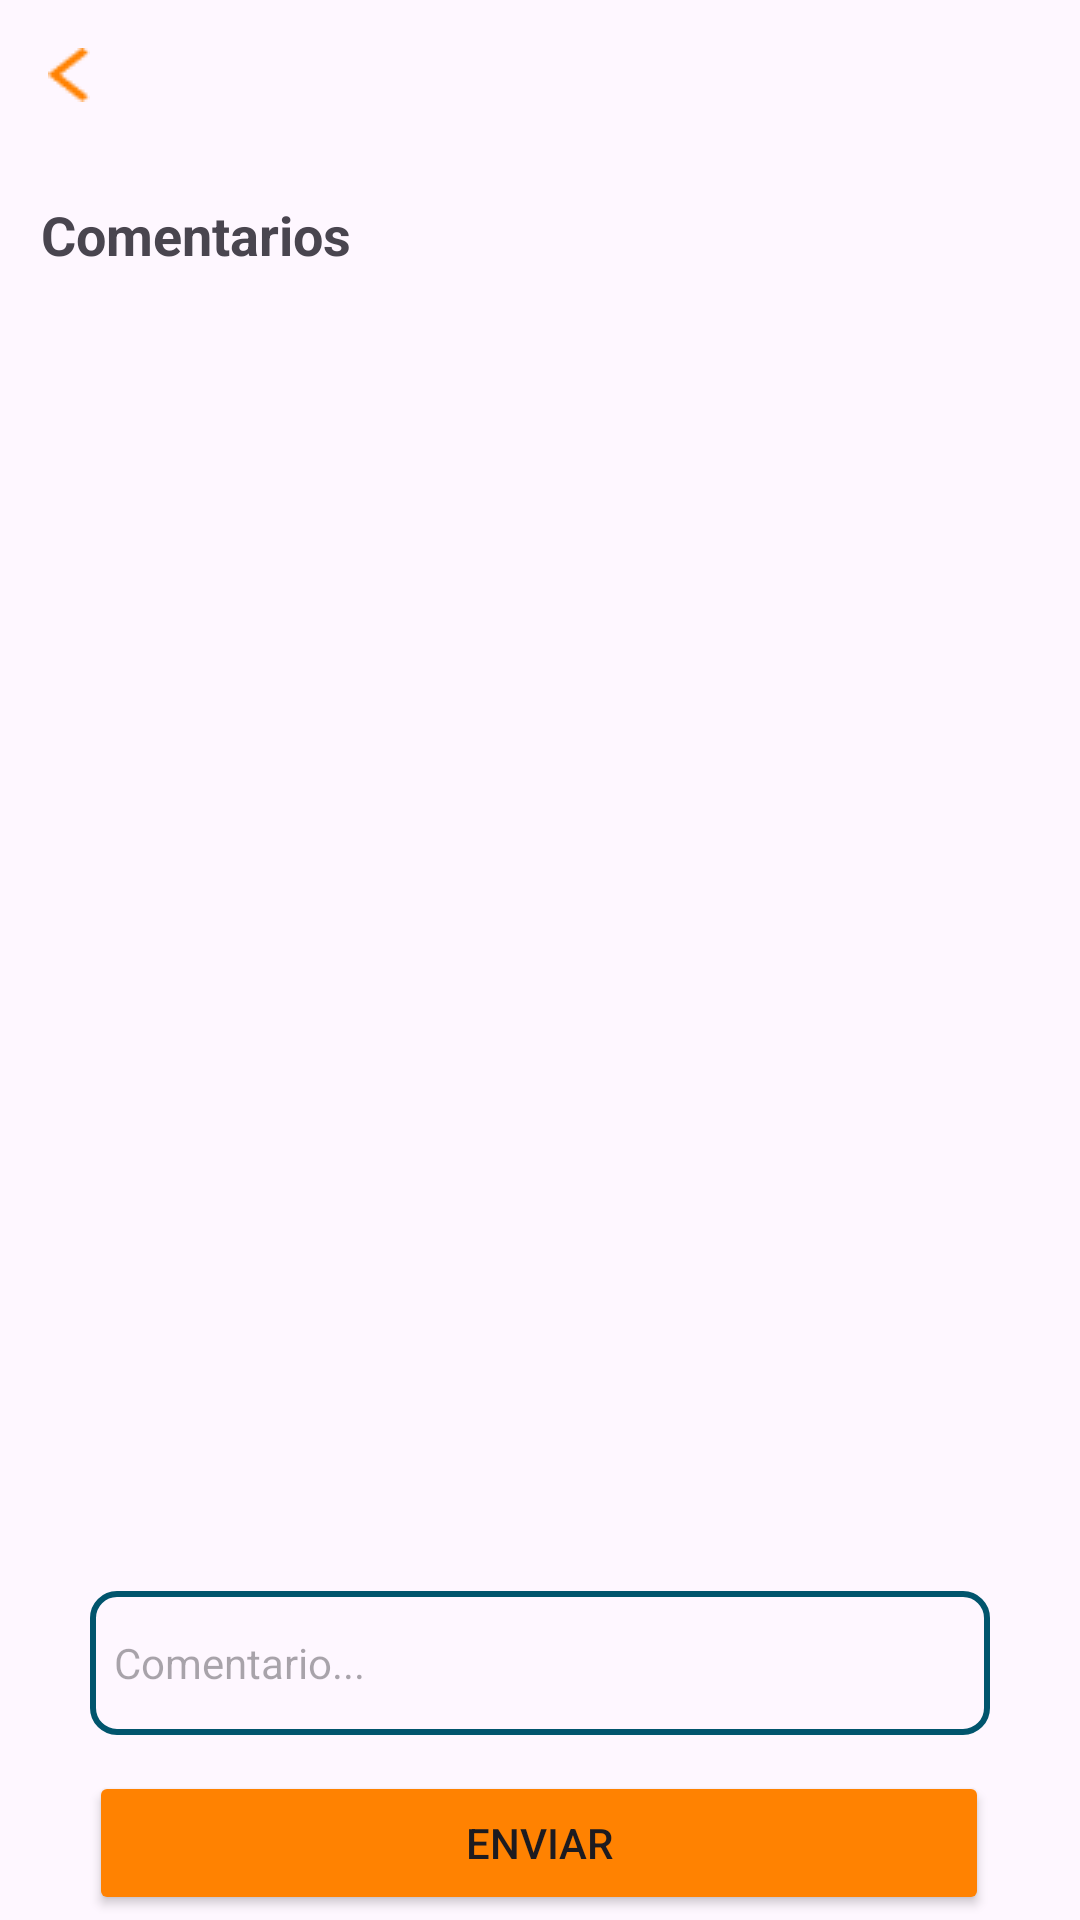

Named icons in this screenshot (1080×1920) and their centers, [x,y]:
goback: [69,75]
